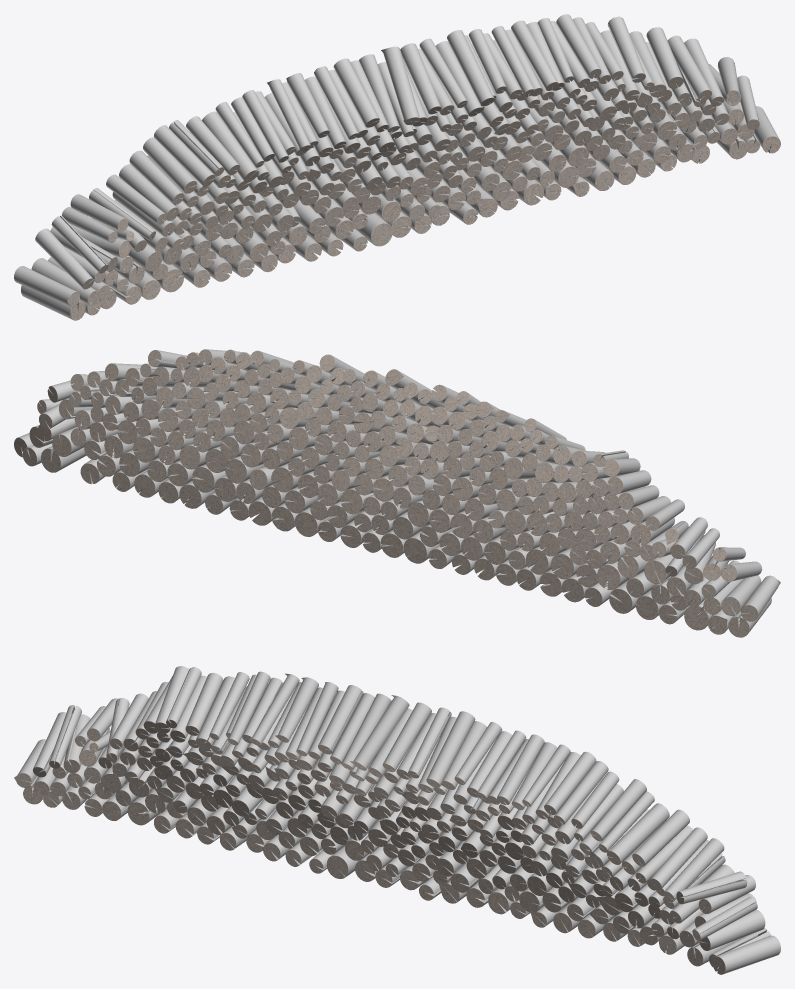
Rendered from Дрова.fbx.
The picture shows the model from 3 angles, top to bottom: view 1: azimuth 30°, elevation 25°; view 2: azimuth 150°, elevation 25°; view 3: azimuth 330°, elevation 25°; orthographic projection.
Parts seen in each view (by area): view 1: log_11_12, log_11_15, log_11_3, log_11_10, log_9_5, log_5_0, log_11_13, log_9_0, log_11_18, log_10_3, log_10_23, log_11_11 (+51 smaller); view 2: log_5_0, log_3_0, log_10_3, log_11_0, log_10_1, log_1_25, log_9_2, log_8_2, log_9_0, log_11_2, log_0_11, log_0_2 (+28 smaller); view 3: log_5_25, log_11_12, log_9_22, log_11_15, log_11_10, log_10_23, log_11_13, log_11_23, log_11_24, log_10_22, log_4_25, log_11_18 (+45 smaller).
Boxes of the visible parts, bbox=[...] form: log_11_12: bbox=[381, 46, 419, 124]; log_11_15: bbox=[447, 30, 494, 106]; log_11_3: bbox=[154, 125, 215, 186]; log_11_10: bbox=[333, 58, 379, 127]; log_9_5: bbox=[202, 111, 258, 182]; log_5_0: bbox=[14, 266, 79, 307]; log_11_13: bbox=[400, 43, 441, 114]; log_9_0: bbox=[35, 228, 94, 289]; log_11_18: bbox=[511, 20, 558, 90]; log_10_3: bbox=[143, 137, 197, 193]; log_10_23: bbox=[646, 27, 683, 88]; log_11_11: bbox=[359, 54, 399, 132]; log_5_0: bbox=[741, 575, 780, 621]; log_3_0: bbox=[721, 575, 761, 615]; log_10_3: bbox=[607, 470, 651, 494]; log_11_0: bbox=[670, 517, 707, 558]; log_10_1: bbox=[682, 528, 719, 568]; log_1_25: bbox=[41, 446, 86, 472]; log_9_2: bbox=[618, 485, 659, 509]; log_8_2: bbox=[627, 496, 670, 524]; log_9_0: bbox=[721, 561, 762, 581]; log_11_2: bbox=[645, 499, 684, 530]; log_0_11: bbox=[403, 531, 439, 563]; log_0_2: bbox=[609, 578, 639, 613]; log_5_25: bbox=[712, 935, 780, 974]; log_11_12: bbox=[350, 695, 409, 770]; log_9_22: bbox=[607, 803, 669, 864]; log_11_15: bbox=[426, 711, 475, 787]; log_11_10: bbox=[318, 685, 363, 754]; log_10_23: bbox=[632, 809, 689, 866]; log_11_13: bbox=[382, 702, 431, 772]; log_11_23: bbox=[649, 827, 707, 890]; log_11_24: bbox=[663, 838, 724, 901]; log_10_22: bbox=[590, 779, 646, 841]; log_4_25: bbox=[699, 909, 765, 950]; log_11_18: bbox=[497, 734, 544, 804].
Bounding box in the file's own units: 680 × 150 × 82.29.
